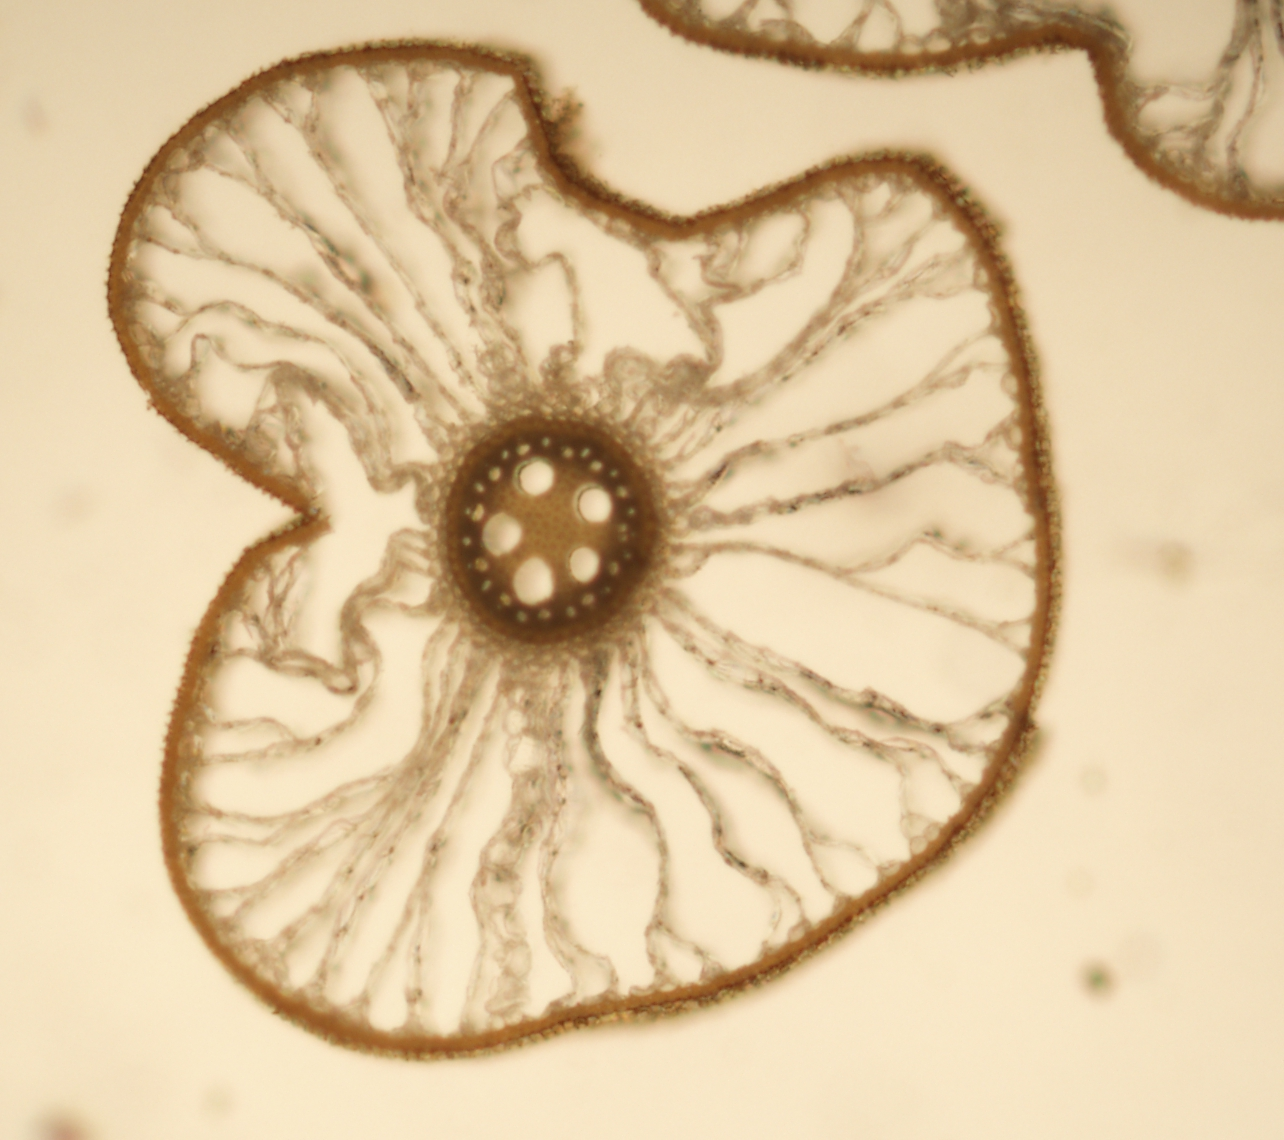lm: (513, 556, 555, 606), (482, 512, 523, 557), (518, 458, 555, 496), (578, 486, 612, 524), (569, 546, 600, 584)
